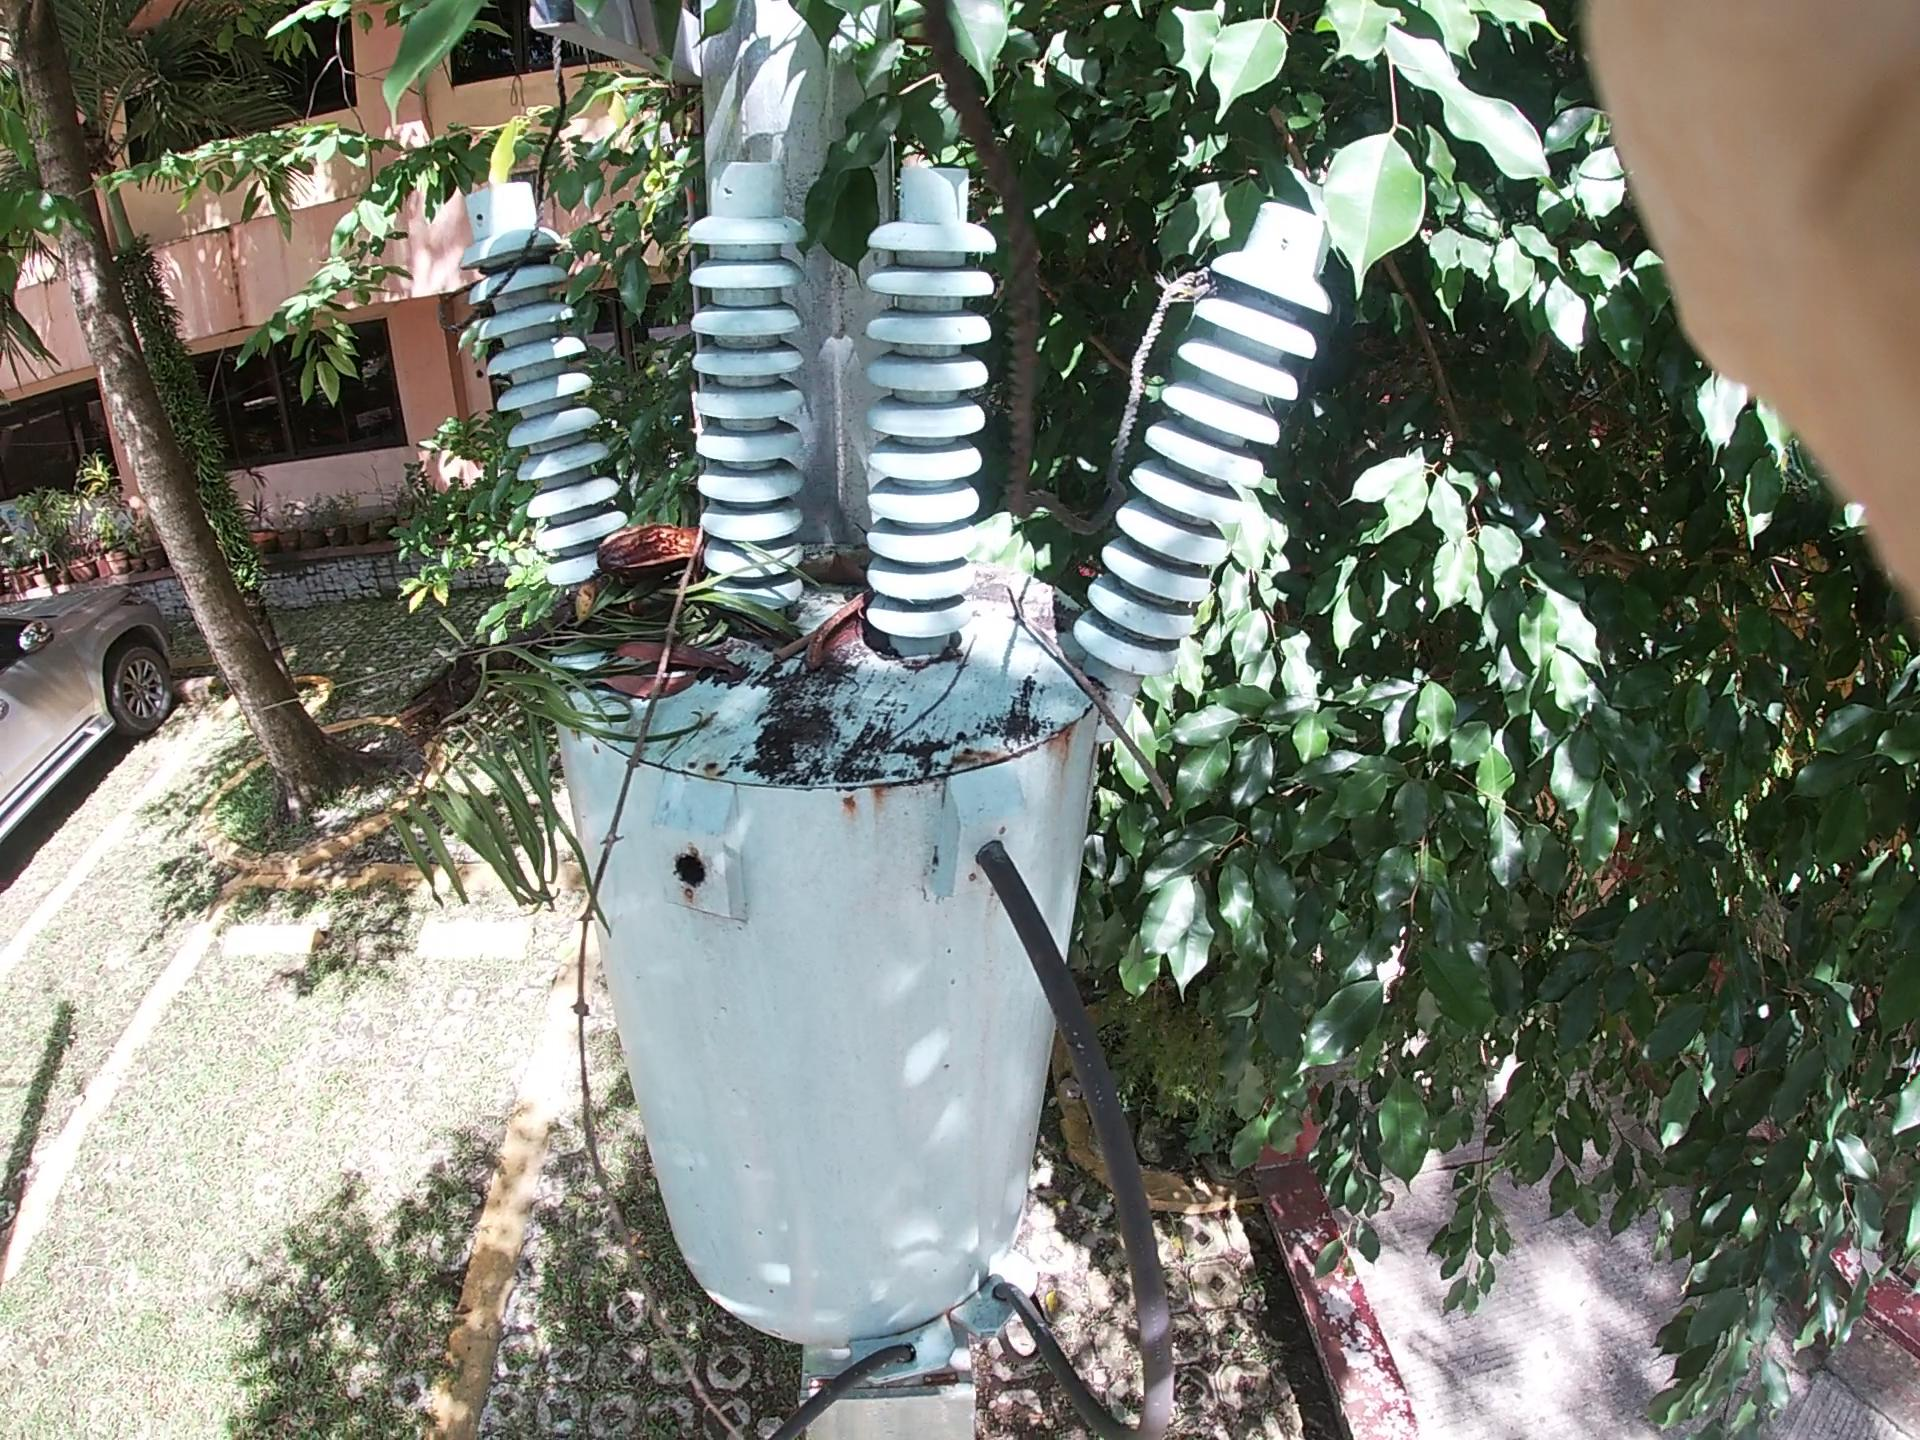branch with leaves: (301, 436, 624, 911)
leaf: (578, 610, 698, 722)
mahogany fruit: (588, 511, 757, 622)
tree branch: (532, 493, 646, 1181), (1037, 585, 1205, 821), (770, 502, 865, 709)
